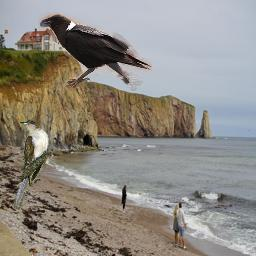Crow: (38, 12, 152, 91)
Cuckoo: (13, 119, 50, 210)
